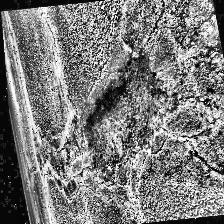pothole: (65, 43, 188, 176)
